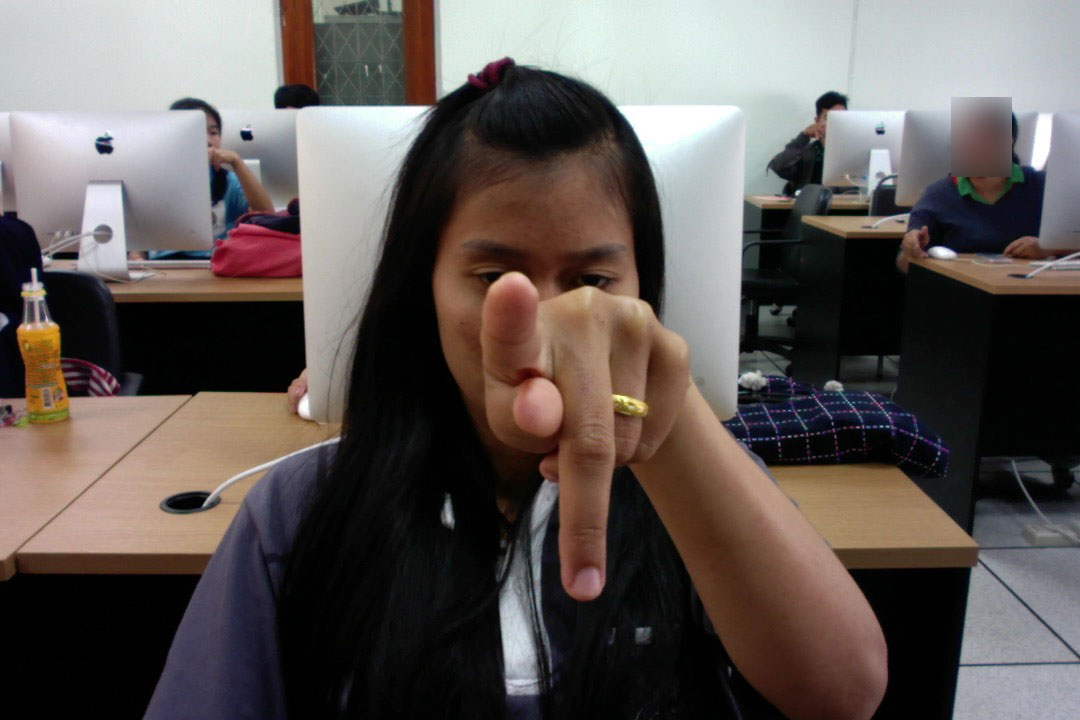por: (471, 267, 700, 605)
